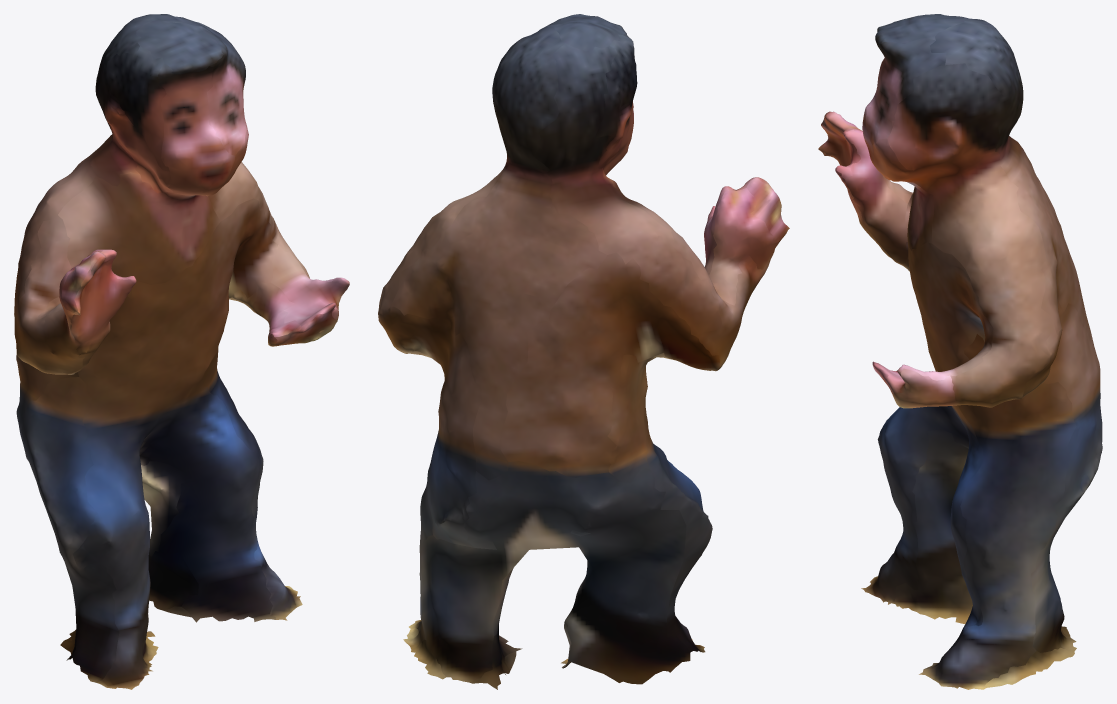
The model's file is dollG.glb.
The picture shows the model from 3 angles, left to right: view 1: azimuth 30°, elevation 25°; view 2: azimuth 150°, elevation 25°; view 3: azimuth 270°, elevation 25°; orthographic projection. The views are drawn at different scales.
Parts seen in each view (by area): view 1: Geom; view 2: Geom; view 3: Geom.
Part boxes in pixels (x1=…): Geom: x1=14, y1=14, x2=349, y2=689; Geom: x1=378, y1=14, x2=789, y2=689; Geom: x1=818, y1=14, x2=1102, y2=689.
Bounding box in the file's own units: 0.0481 × 0.0898 × 0.0382.
Materials: 1 (1 with a texture image).
